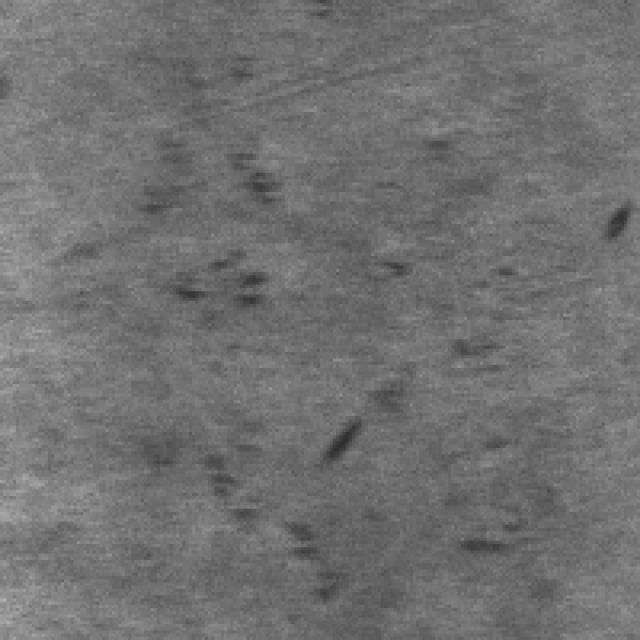rolled-in_scale: (339, 250, 544, 570), (131, 118, 285, 310), (195, 442, 333, 598)
